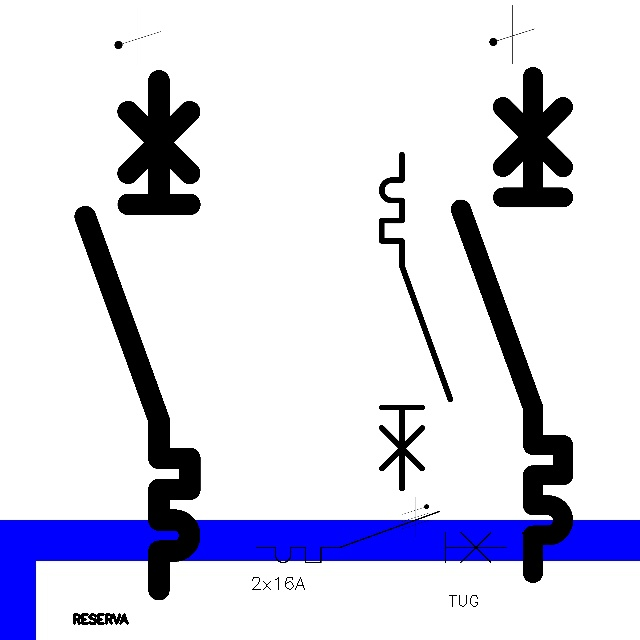interruptor_termomagnetico: (72, 67, 203, 603), (448, 64, 576, 586), (373, 146, 459, 497), (250, 505, 512, 569)
